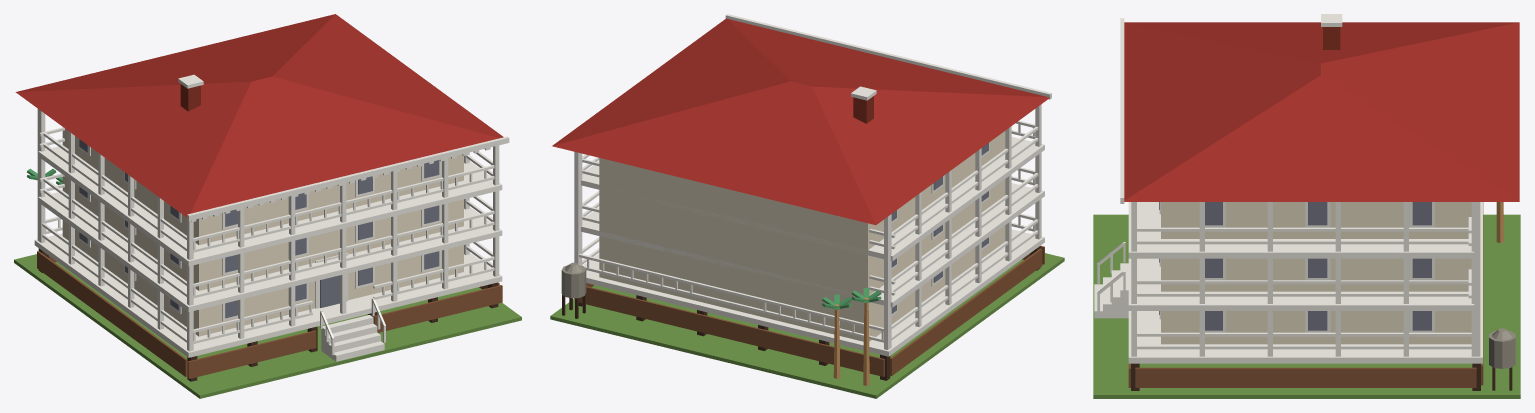
The model's file is house-2x2-3f-queenslander-a.glb.
3 renders of one model, left to right at view 1: azimuth 30°, elevation 25°; view 2: azimuth 150°, elevation 25°; view 3: azimuth 270°, elevation 25°, orthographic. The views are drawn at different scales.
Parts seen in each view (by area): view 1: house-2x2-3f-queenslander-a; view 2: house-2x2-3f-queenslander-a; view 3: house-2x2-3f-queenslander-a.
Boxes of the visible parts, box(x1,y1,x2,y2) form: house-2x2-3f-queenslander-a: box(14, 14, 521, 398); house-2x2-3f-queenslander-a: box(550, 14, 1064, 398); house-2x2-3f-queenslander-a: box(1093, 14, 1520, 398).
Bounding box in the file's own units: 1.99 × 1.3 × 1.99.
Materials: 1 (1 with a texture image).
